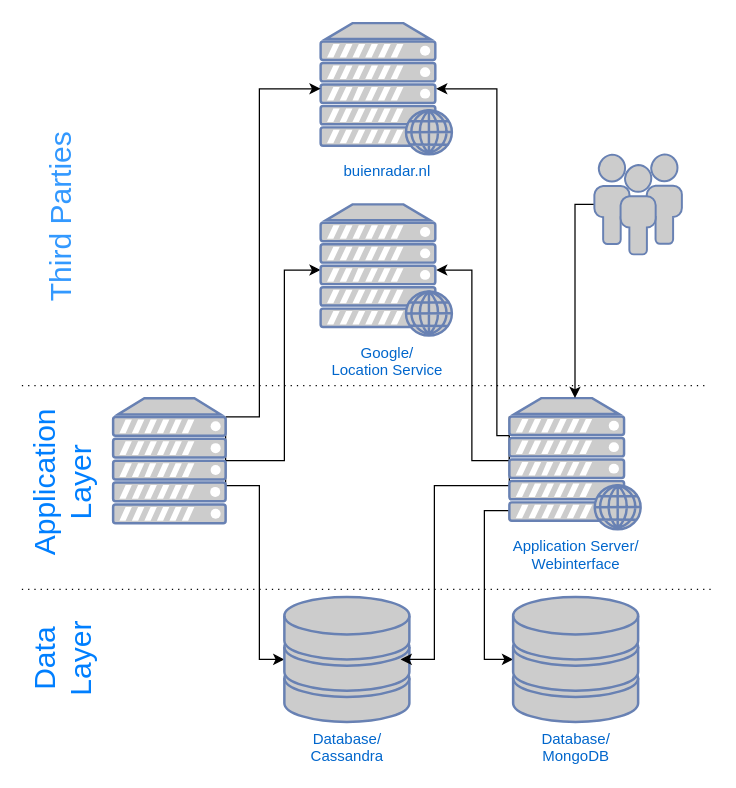
Some shapes in this 736 by 788 pixel diagram are drawn without their labels. The centre of each missing label's shape, as x and y in pixels:
"Crawler" goes at [168,460].
"User" goes at [637,203].
